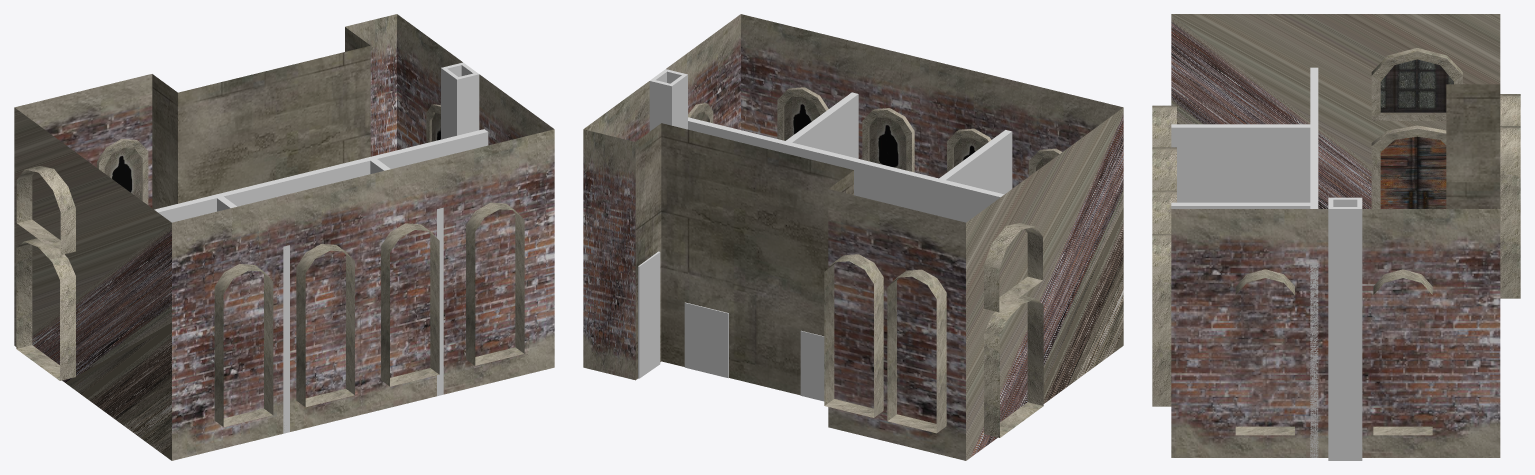
The model's file is pub_1.2ndfloor.interior.fbx.
The picture shows the model from 3 angles, left to right: view 1: azimuth 30°, elevation 25°; view 2: azimuth 150°, elevation 25°; view 3: azimuth 270°, elevation 25°; orthographic projection. The views are drawn at different scales.
Parts seen in each view (by area): view 1: house_2.002, house_2.004, Cube.003, fireplace_1.006; view 2: house_2.002, house_2.004, Cube.003, store_2.018, sideboard_1.028, fireplace_1.006, store_2.017; view 3: house_2.002, Cube.003, fireplace_1.006, house_2.004.
Part boxes in pixels (<box>): house_2.002: <box>14,14,554,460</box>; house_2.004: <box>152,27,370,209</box>; Cube.003: <box>154,129,488,433</box>; fireplace_1.006: <box>441,62,479,139</box>; house_2.002: <box>583,14,1123,460</box>; house_2.004: <box>635,123,853,395</box>; Cube.003: <box>688,92,1012,222</box>; store_2.018: <box>684,302,728,378</box>; sideboard_1.028: <box>638,251,660,378</box>; fireplace_1.006: <box>649,69,687,131</box>; store_2.017: <box>800,330,824,401</box>; house_2.002: <box>1152,14,1520,457</box>; Cube.003: <box>1171,67,1318,457</box>; fireplace_1.006: <box>1328,197,1362,460</box>; house_2.004: <box>1446,84,1500,208</box>.
Size of the model in its own units: 9.3 by 5.15 by 6.83.
